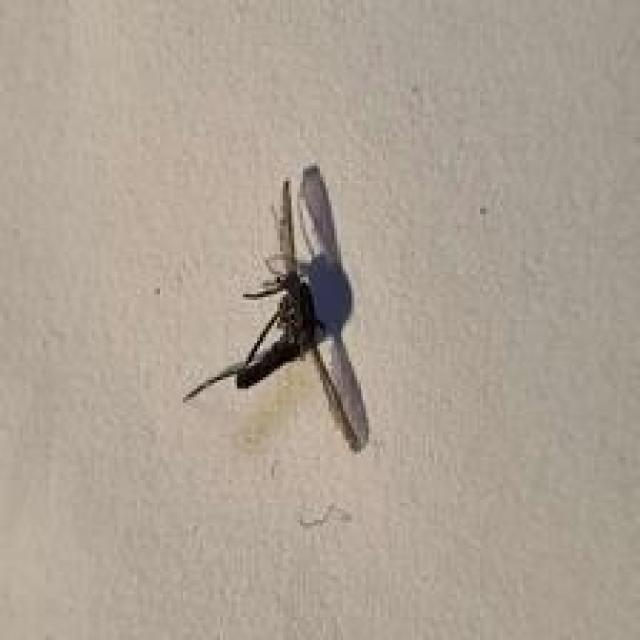Aedes albopictus: (181, 161, 370, 453)
